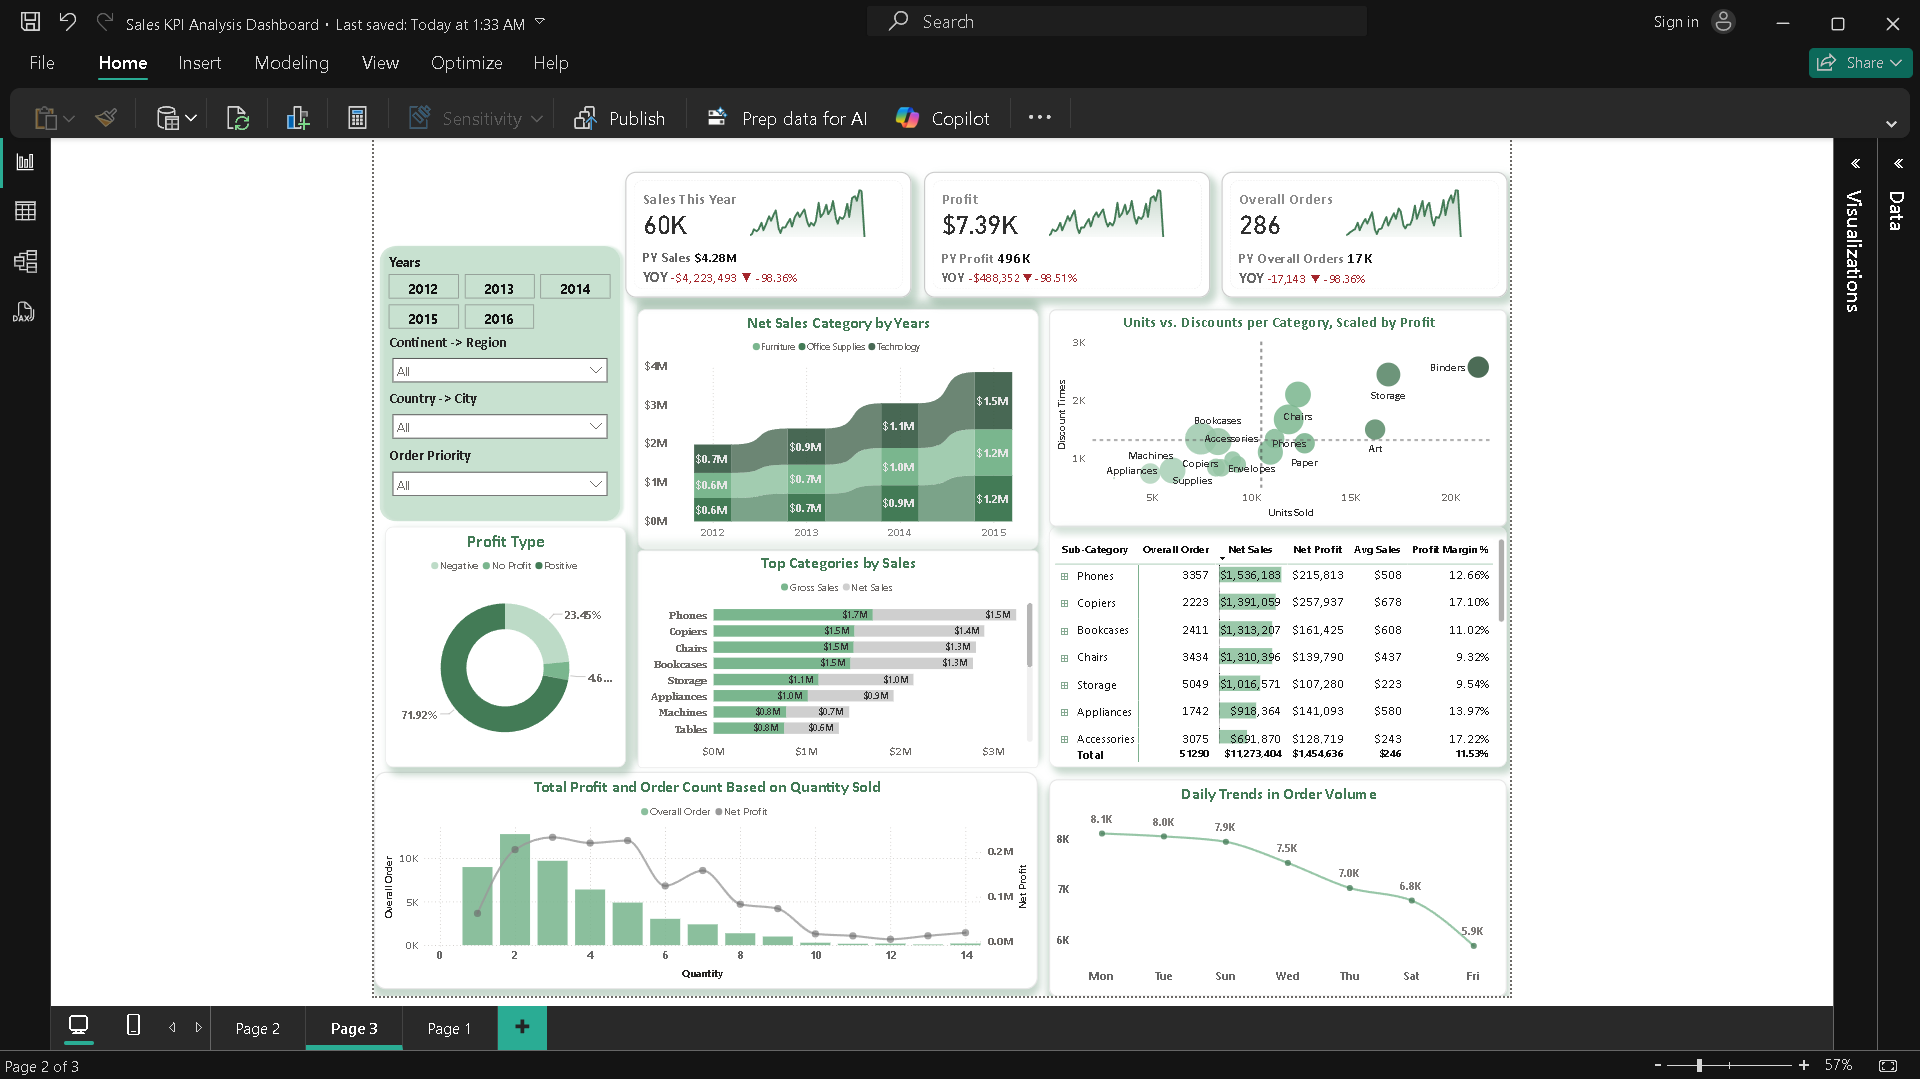

Layout of this report page (visuals, bound fields, positions):
{"tool":"powerbi","page":{"name":"Product & Trend Insights","canvas":[1588,1195],"ordinal":1},"visuals":[{"type":"scatterChart","title":"Units vs. Discounts per Category, Scaled by Profit","fields":{"X":["Sales Measure.Units Sold"],"Size":["Sales Measure.Net Profit"],"Category":["Super Store(Fact).Sub-Category"],"Y":["Sales Measure.Discount Count"]},"box":[944,240,640,304],"z":0},{"type":"shape","title":"Filter Pane 1","box":[0,144,352,400],"z":1000},{"type":"pivotTable","fields":{"Rows":["Super Store(Fact).Sub-Category","Super Store(Fact).Product Name"],"Values":["Sales Measure.Overall Order","Sales Measure.Net Sales","Sales Measure.Net Profit","Sales Measure.Avg Sales","Sales Measure.Net Profit %"]},"box":[944,544,640,336],"z":2000},{"type":"slicer","title":"Order Priority","fields":{"Values":["Super Store(Fact).Order Priority"]},"box":[16,432,320,80],"z":3000},{"type":"barChart","title":"Top Categories by Sales","fields":{"Category":["Super Store(Fact).Sub-Category"],"Y":["Sales Measure.Gross Sales","Sales Measure.Net Sales"]},"box":[368,576,560,304],"z":4000},{"type":"slicer","title":"Continent -> Region","fields":{"Values":["Super Store(Fact).Continent","Super Store(Fact).Region"]},"box":[16,272,320,80],"z":5000},{"type":"ribbonChart","title":"Net Sales Category by Years","fields":{"Category":["Date(dim).Year"],"Series":["Super Store(Fact).Category"],"Y":["Sales Measure.Net Sales"]},"box":[368,240,560,336],"z":6000},{"type":"slicer","title":"Country -> City","fields":{"Values":["Super Store(Fact).Country","Super Store(Fact).City"]},"box":[16,352,320,80],"z":7000},{"type":"advancedSlicerVisual","title":"Years","fields":{"Values":["Date(dim).Year"]},"box":[16,160,320,112],"z":8000},{"type":"lineClusteredColumnComboChart","title":"Total Profit and Order Count Based on Quantity Sold","fields":{"Category":["Super Store(Fact).Quantity"],"Y":["Sales Measure.Overall Order"],"Y2":["Sales Measure.Net Profit"]},"box":[0,886.4,928,304],"z":9000},{"type":"lineChart","title":"Daily Trends in Order Volume","fields":{"Category":["Date(dim).DayName"],"Y":["Sales Measure.Overall Order"]},"box":[944,896,640,304],"z":10000},{"type":"donutChart","title":"Profit Type ","fields":{"Category":["Super Store(Fact).Profit Type"],"Y":["Sales Measure.Overall Order"]},"box":[16,544,336,336],"z":11000},{"type":"cardVisual","fields":{"Data":["KPi 2.Profit This Year"]},"box":[768,48,400,176],"z":12000},{"type":"cardVisual","fields":{"Data":["KPi 2.Overall Order This Year"]},"box":[1184,48,400,176],"z":13000},{"type":"cardVisual","fields":{"Data":["KPi 2.Sales This Year"]},"box":[352,48,400,176],"z":14000},{"type":"textbox","box":[0,32,352,112],"z":15000}]}

Visuals, with their boxes on the page's 1588x1195 design canvas (x1, y1, x2, y2). These are canvas units, not pixel positions in the 1920x1079 screenshot, which may show the page scaled, cropped or inside an application window:
"Units vs. Discounts per Category, Scaled by Profit" scatterChart: rect(944, 240, 1584, 544)
"Filter Pane 1" shape: rect(0, 144, 352, 544)
pivotTable - Super Store(Fact).Sub-Category x Super Store(Fact).Product Name: rect(944, 544, 1584, 880)
"Order Priority" slicer: rect(16, 432, 336, 512)
"Top Categories by Sales" barChart: rect(368, 576, 928, 880)
"Continent -> Region" slicer: rect(16, 272, 336, 352)
"Net Sales Category by Years" ribbonChart: rect(368, 240, 928, 576)
"Country -> City" slicer: rect(16, 352, 336, 432)
"Years" advancedSlicerVisual: rect(16, 160, 336, 272)
"Total Profit and Order Count Based on Quantity Sold" lineClusteredColumnComboChart: rect(0, 886, 928, 1190)
"Daily Trends in Order Volume" lineChart: rect(944, 896, 1584, 1200)
"Profit Type " donutChart: rect(16, 544, 352, 880)
cardVisual - KPi 2.Profit This Year: rect(768, 48, 1168, 224)
cardVisual - KPi 2.Overall Order This Year: rect(1184, 48, 1584, 224)
cardVisual - KPi 2.Sales This Year: rect(352, 48, 752, 224)
textbox: rect(0, 32, 352, 144)
